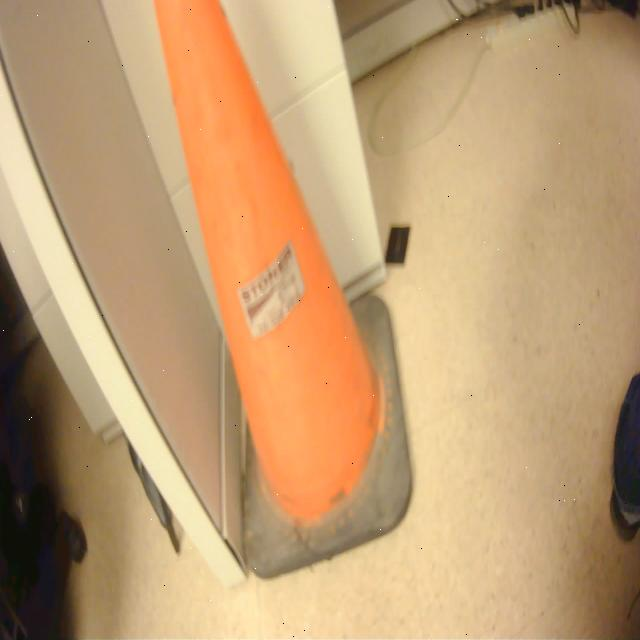traffic cone: (150, 1, 421, 589)
